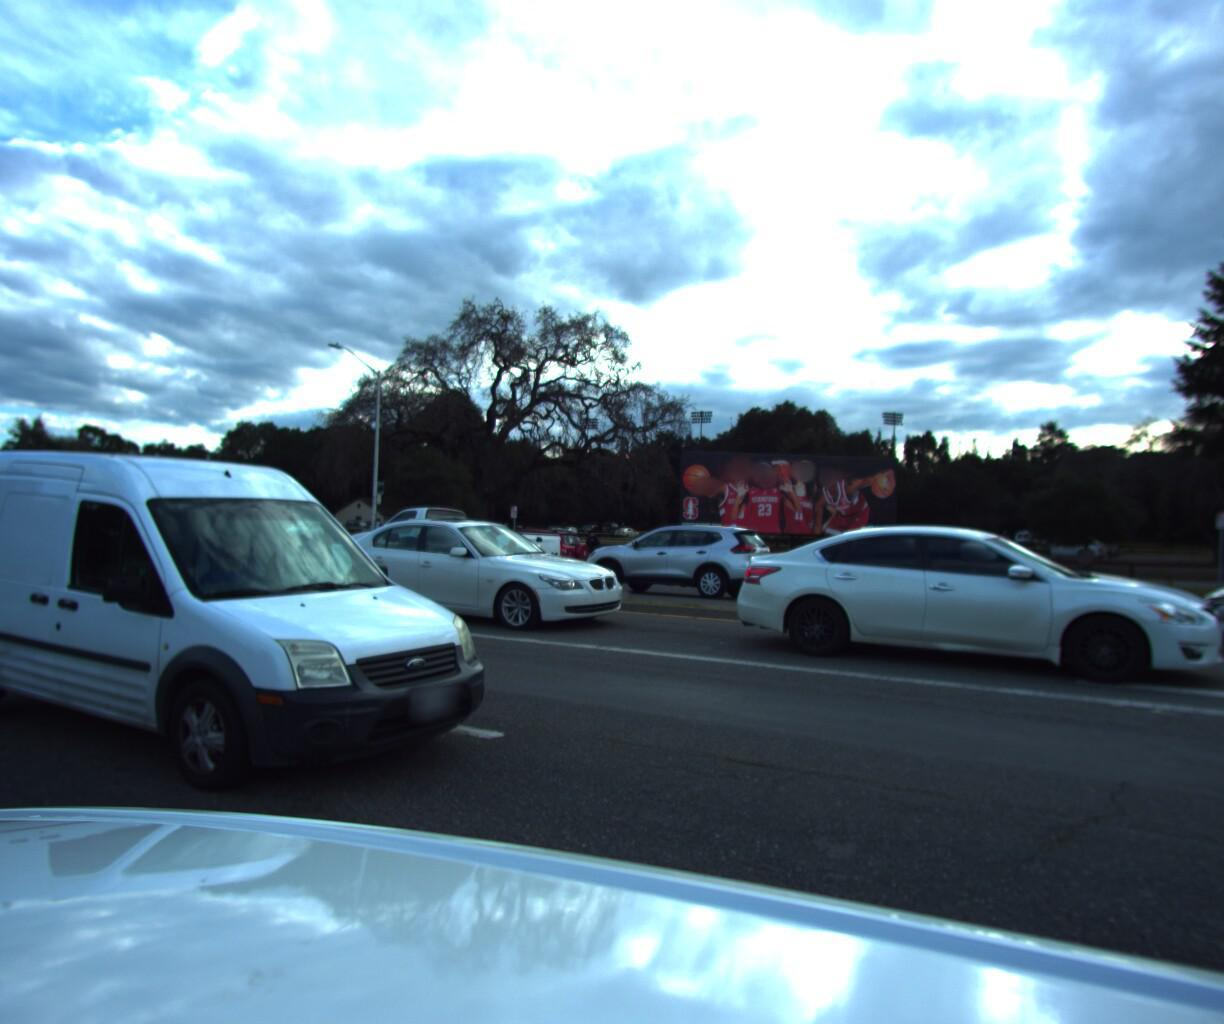car: (0, 422, 541, 857), (718, 518, 1224, 695), (308, 510, 642, 636), (320, 500, 561, 594), (573, 513, 781, 598), (458, 521, 602, 581), (0, 503, 67, 575), (1195, 537, 1224, 678)
